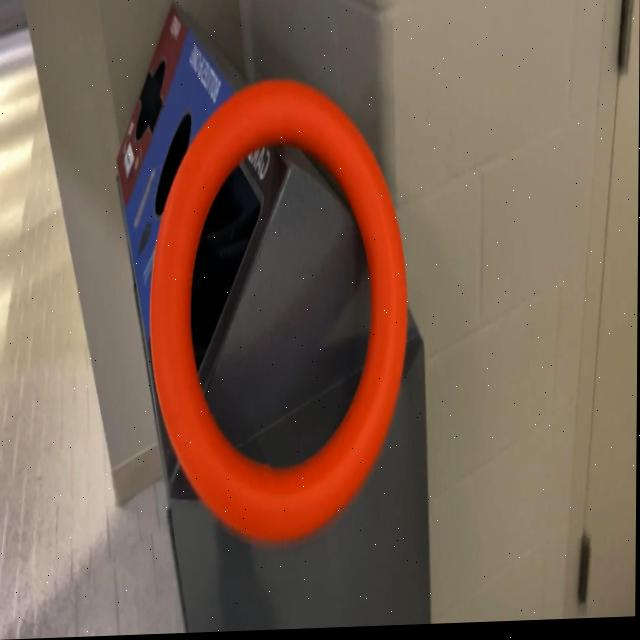note: (145, 71, 410, 555)
